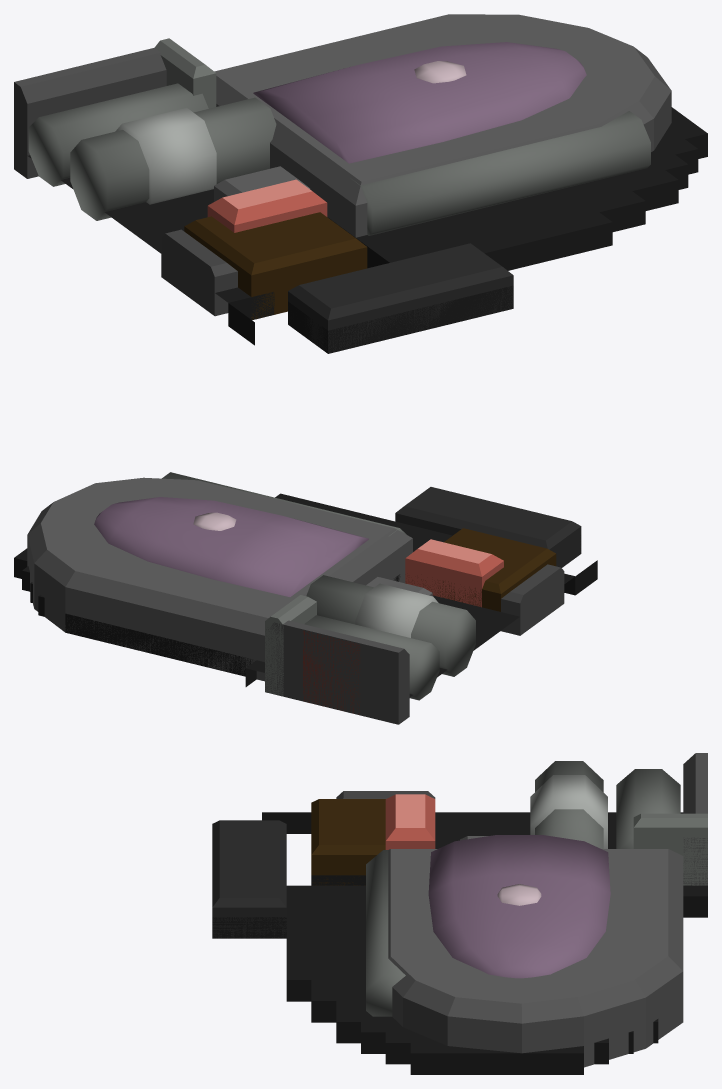
Rendered from newshu-43.glb.
3 renders of one model, top to bottom at view 1: azimuth 30°, elevation 25°; view 2: azimuth 150°, elevation 25°; view 3: azimuth 270°, elevation 25°, orthographic. The views are drawn at different scales.
Visible parts, largest first — view 1: newshu-43; view 2: newshu-43; view 3: newshu-43.
Part boxes in pixels (x1,y1,x2,y2): newshu-43: (14,14,707,353); newshu-43: (14,472,597,724); newshu-43: (212,753,707,1074).
Bounding box in the file's own units: 1.92 × 0.3331 × 2.33.
